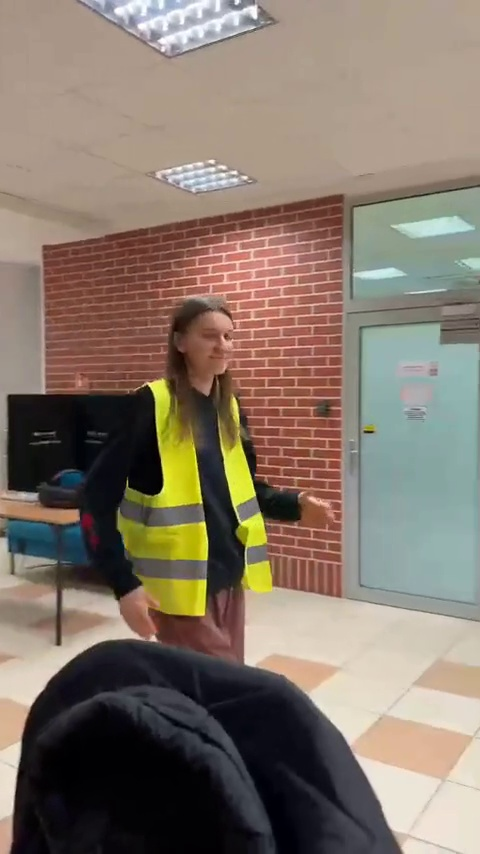vest: (118, 290, 310, 644)
